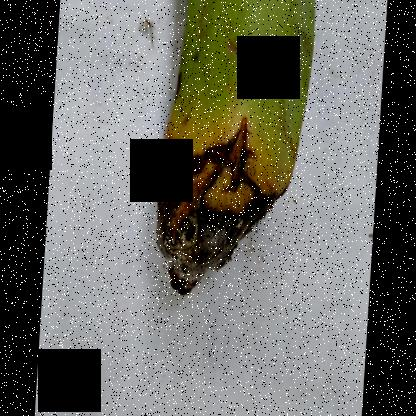rotten: (137, 108, 296, 306)
